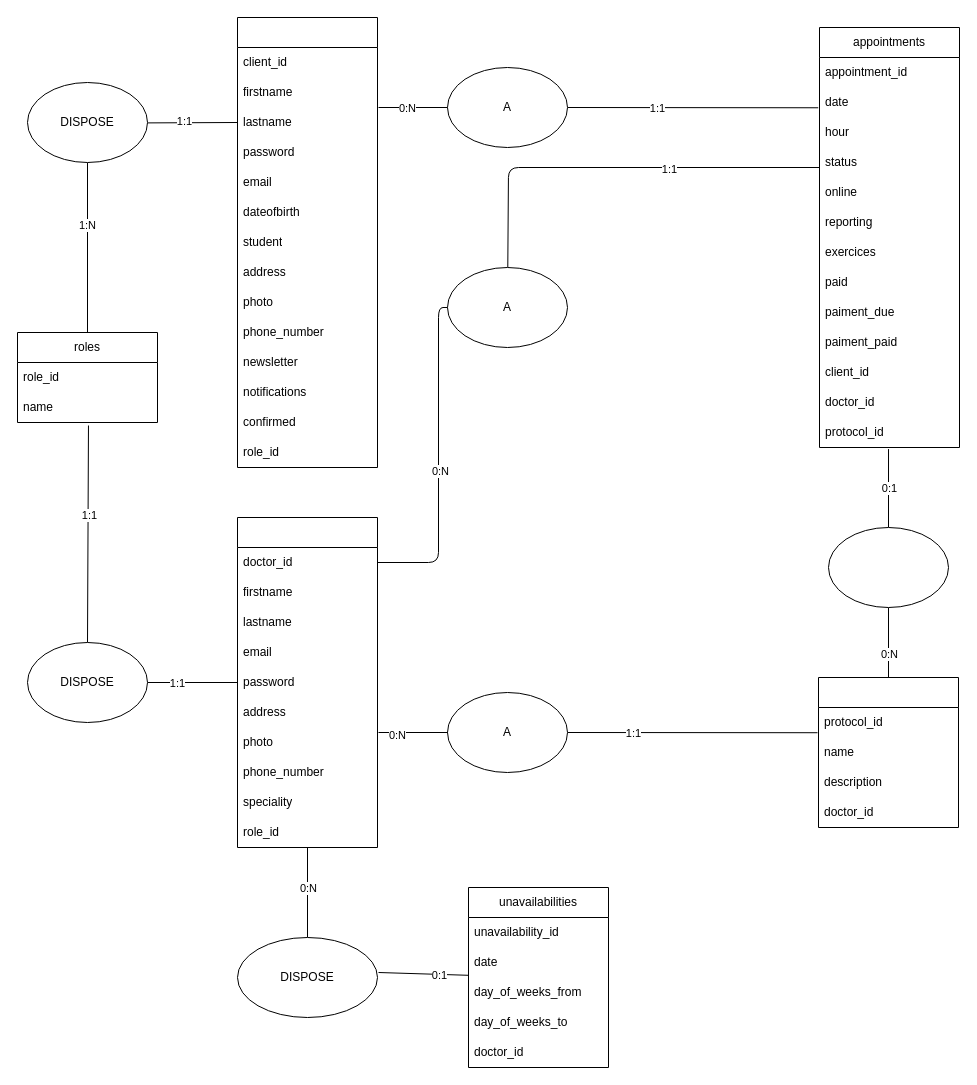
Image size: 977x1085. Some labels were removed from this diagram. Here are the shapes that lost their labels. From the top down, the box of each, then its label:
(236, 16, 378, 468): clients
(828, 526, 948, 608): POSSEDE
(236, 516, 378, 848): doctors
(818, 676, 958, 828): protocols
